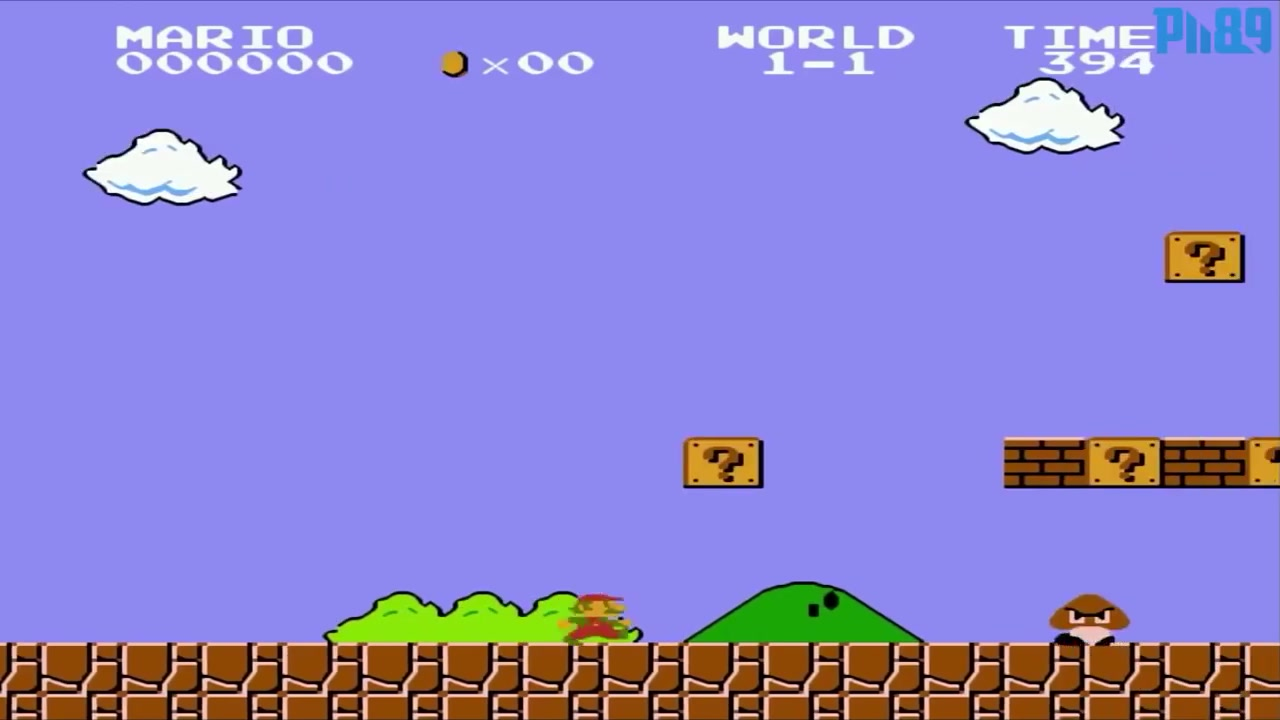mario: (542, 578, 635, 648)
